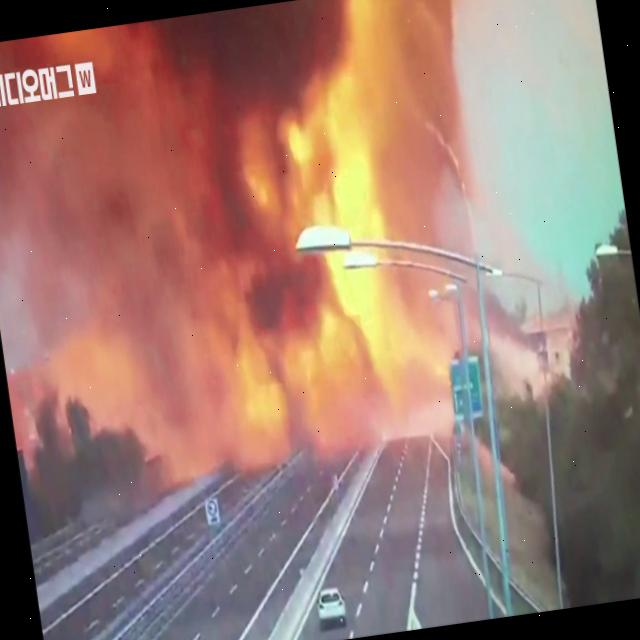explosion: (0, 0, 579, 533)
